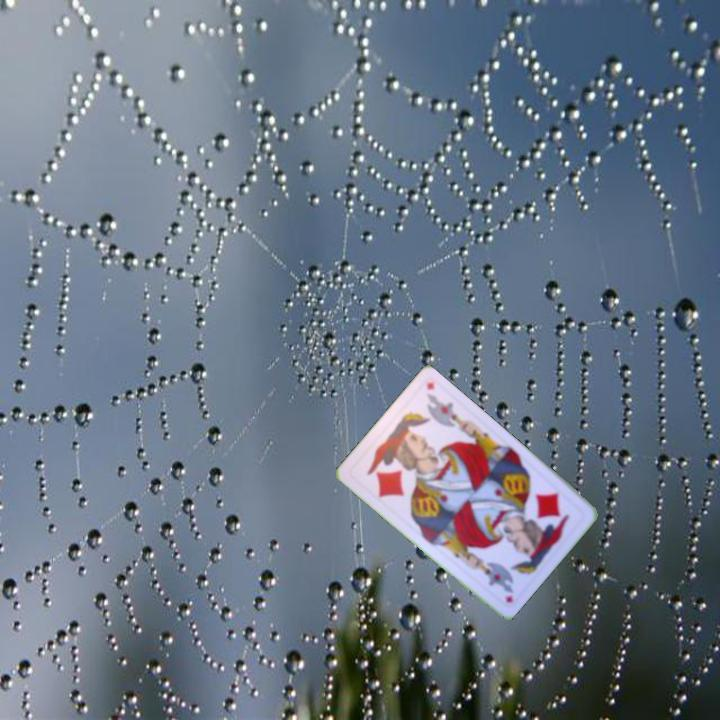d_j.png: (502, 476, 588, 563), (346, 423, 431, 510)
